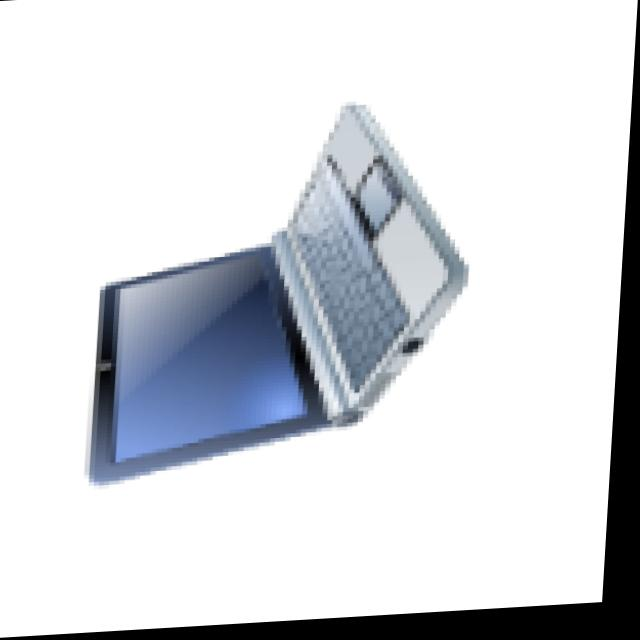Client: (55, 90, 499, 500)
